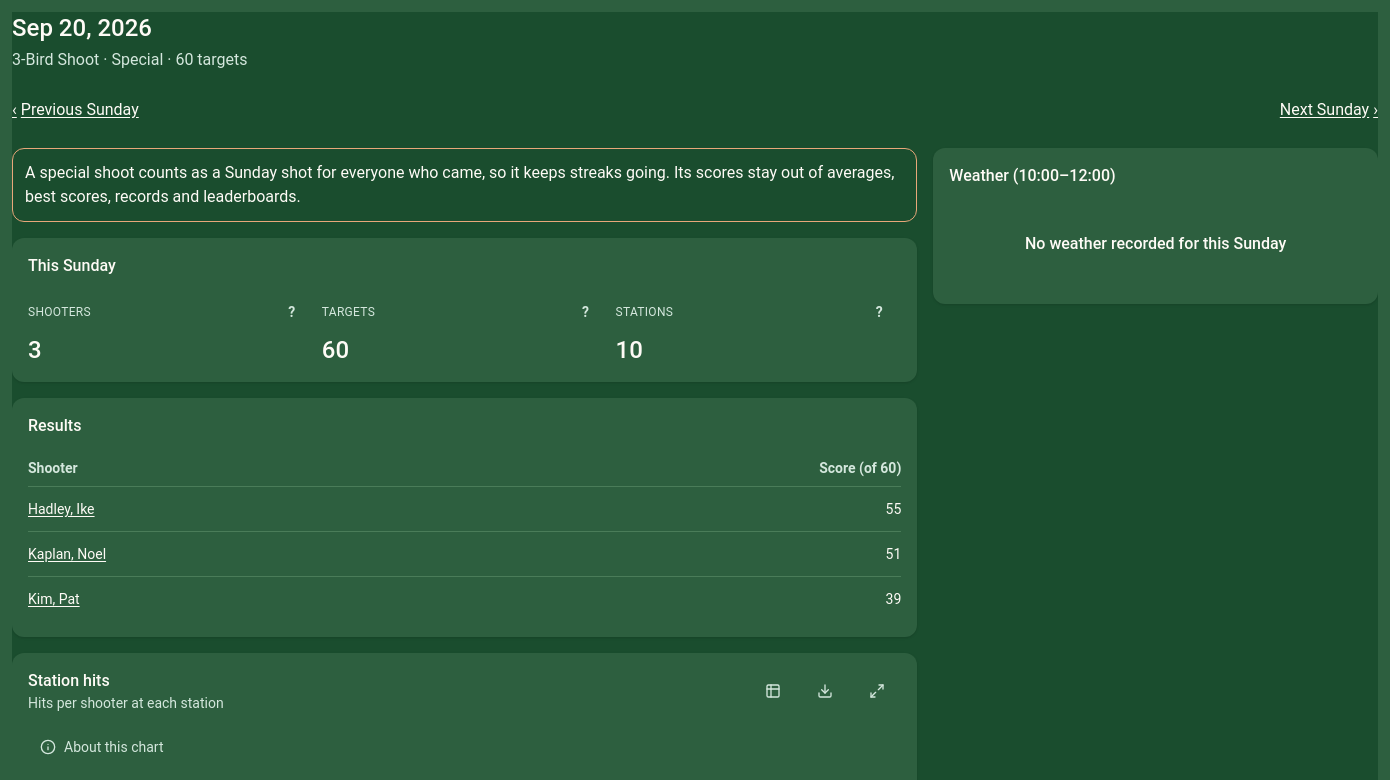
Test: EventDetailPage › a special Sunday (Plan 17) › shows shooters, targets and stations, and no median, top score or difficulty
Expected: the element showing "Shooters ? 3" is shown, 28,290 -> 314,366
Expected: the element showing "Targets ? 60" is shown, 322,290 -> 608,366
Click the button "?" in the row of "Shooters" at (292, 312), box 270,290 -> 314,334
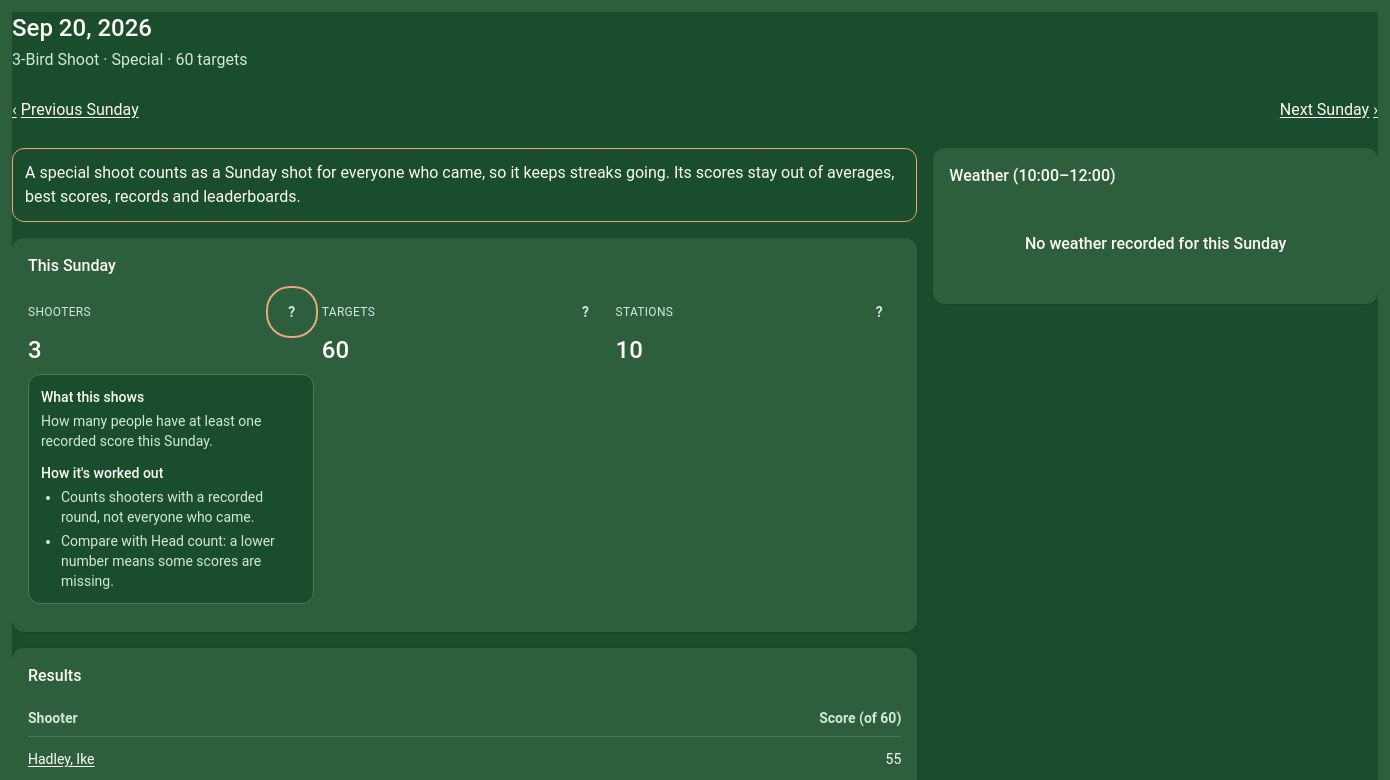
Expected: the heading "What this shows" is shown, 41,389 -> 144,405
Expected: the heading "How it's worked out" is shown, 41,465 -> 163,481
Click the 1st button "?" at (292, 312), box 270,290 -> 314,334
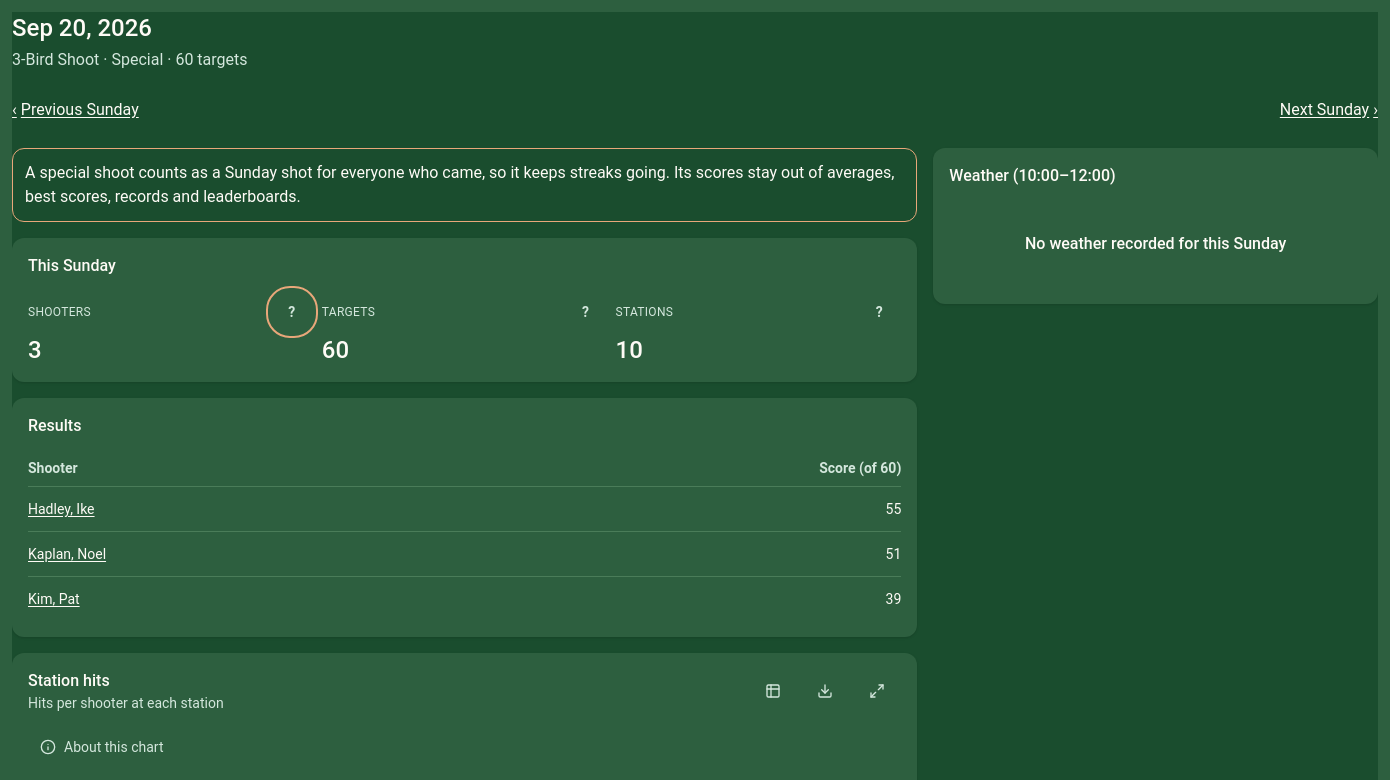
Expected: the heading "What this shows" is gone
Click the button named "About Targets" at (586, 312), box 564,290 -> 608,334
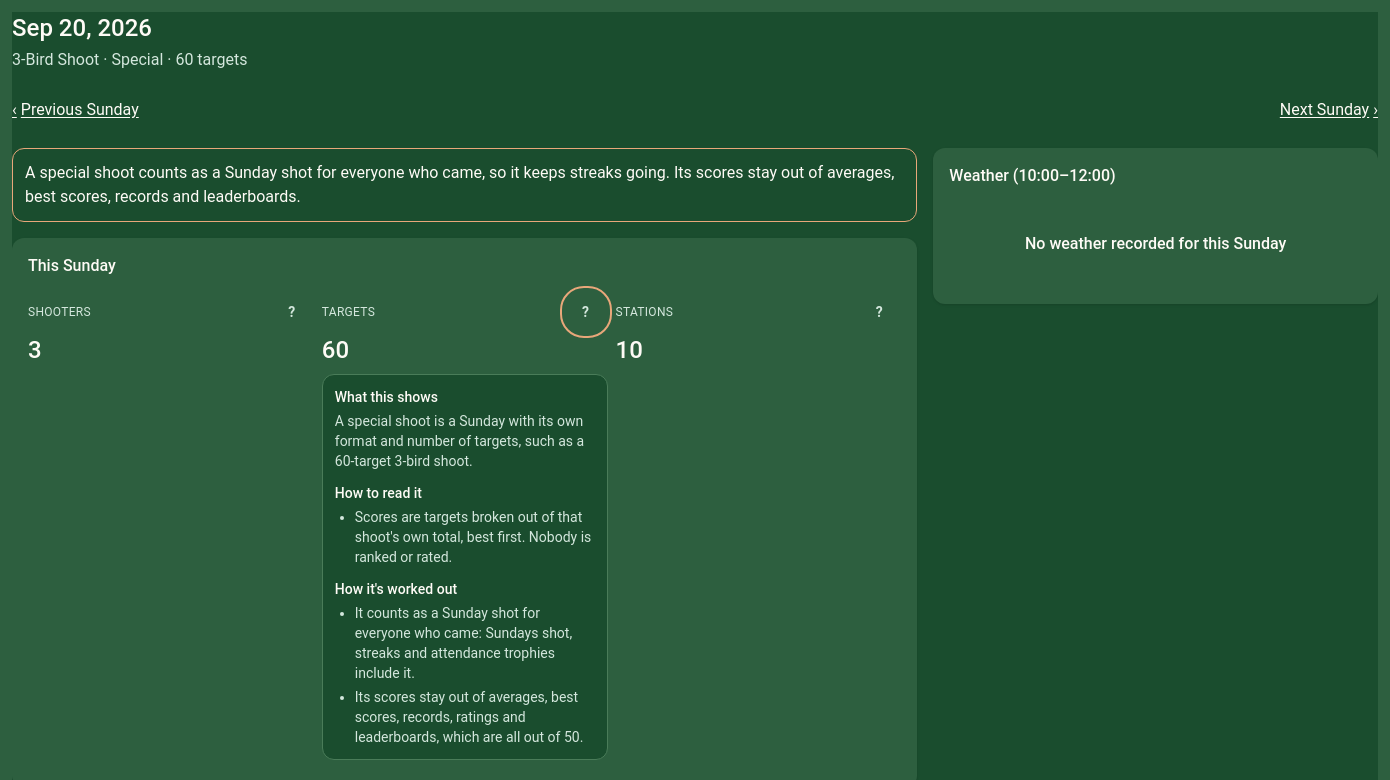
Expected: the button named "About Targets" is expanded
Expected: the heading "What this shows" is shown, 335,389 -> 438,405
Expected: the heading "How it's worked out" is shown, 335,581 -> 457,597
Click the button named "About Targets" at (586, 312), box 564,290 -> 608,334
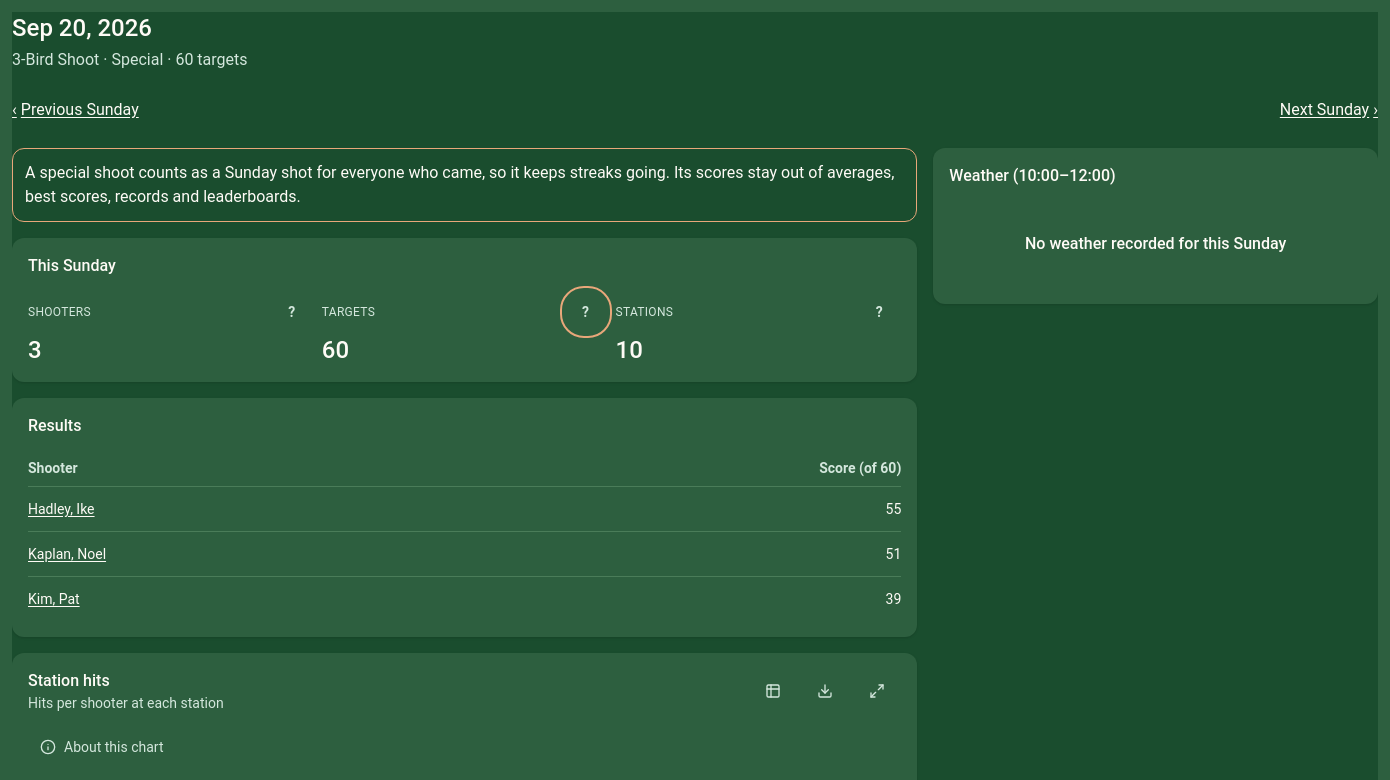
Expected: the heading "What this shows" is gone
Click the button named "About Targets" at (586, 312), box 564,290 -> 608,334
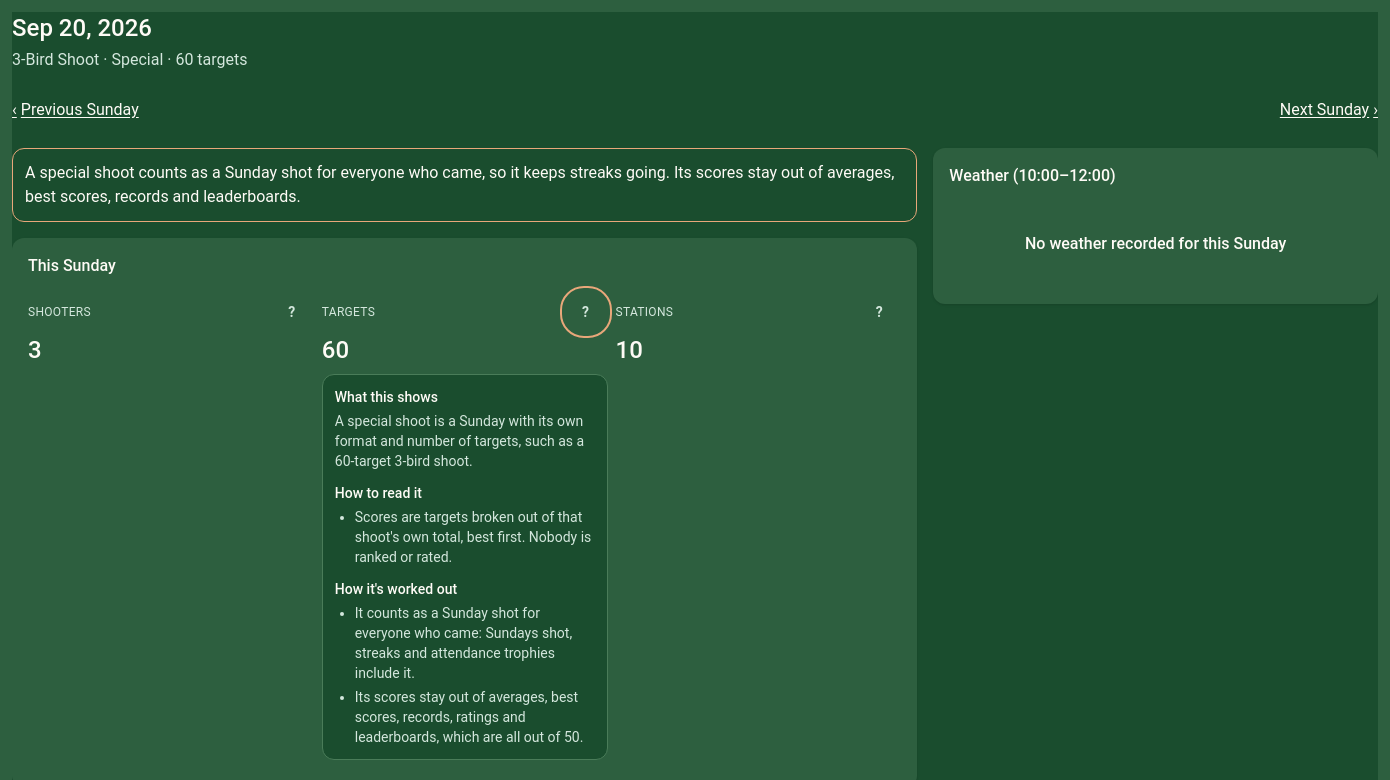
Expected: the heading "What this shows" is shown, 335,389 -> 438,405
Expected: the heading "How it's worked out" is shown, 335,581 -> 457,597
Expected: the heading "How to read it" is shown, 335,485 -> 422,501
Click the button named "About Targets" at (586, 312), box 564,290 -> 608,334
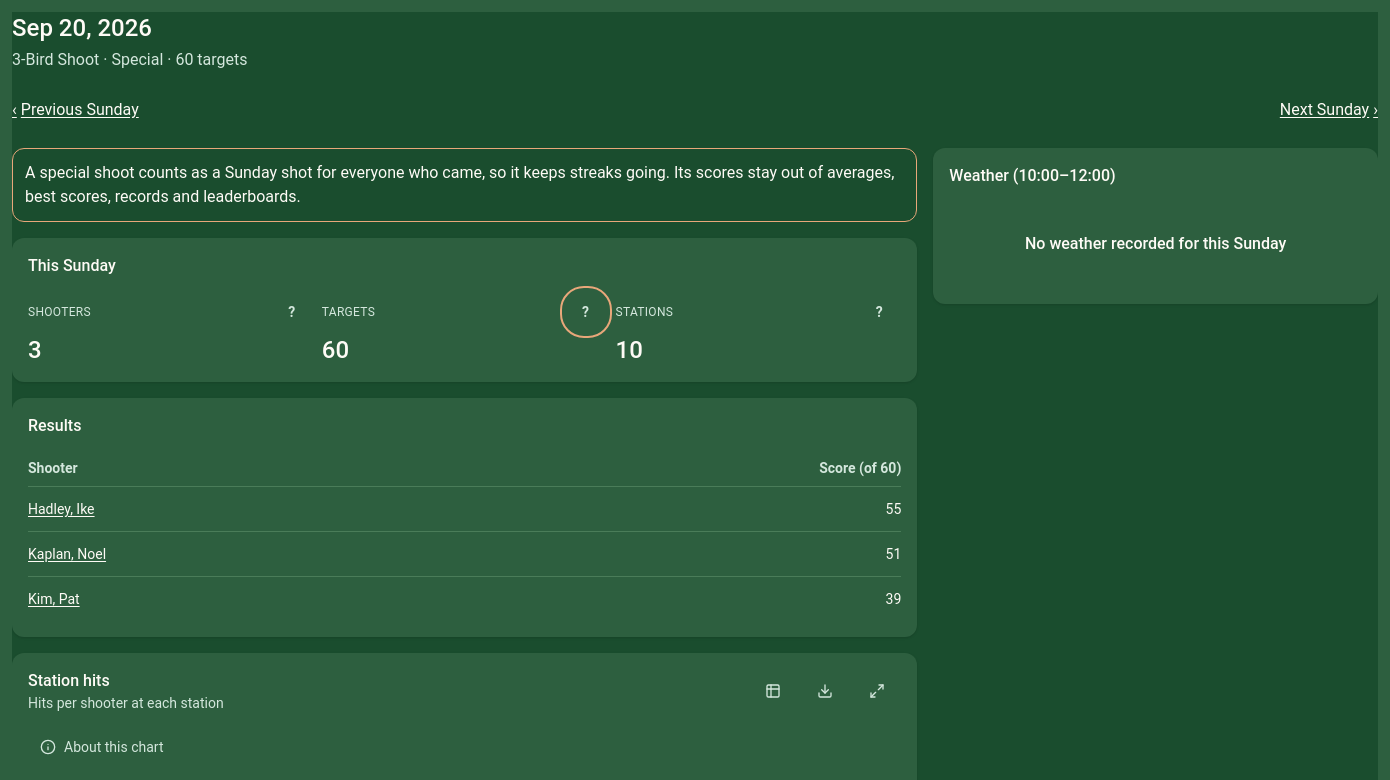
Expected: the heading "What this shows" is gone
